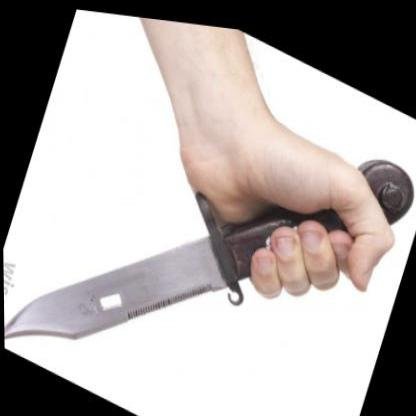knife: (0, 60, 364, 413)
